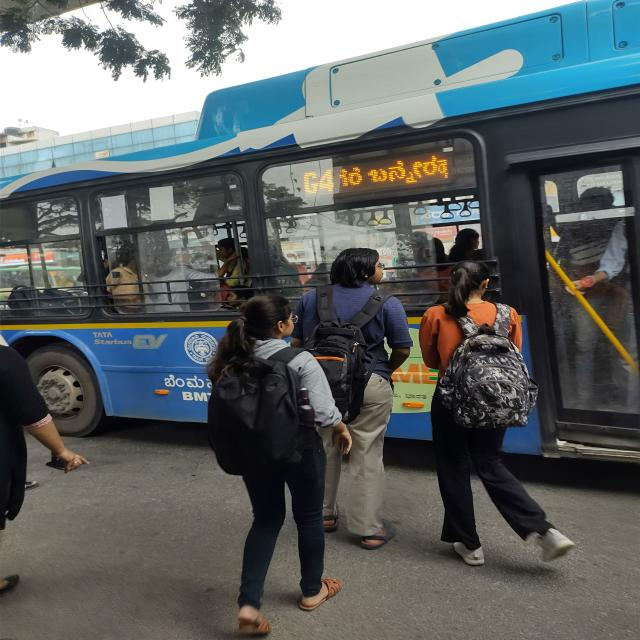bus: (0, 0, 636, 477)
display: (299, 148, 455, 202)
dnumber: (303, 168, 335, 196)
